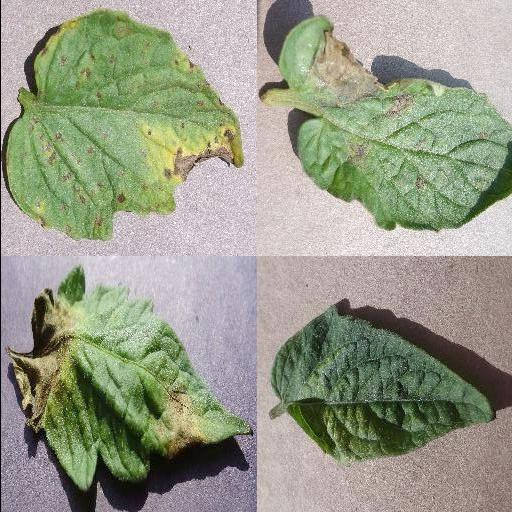Late Blight: (8, 262, 254, 492), (275, 14, 512, 232)
Septoria: (3, 8, 245, 242)
Spider Mites: (269, 303, 495, 461)
